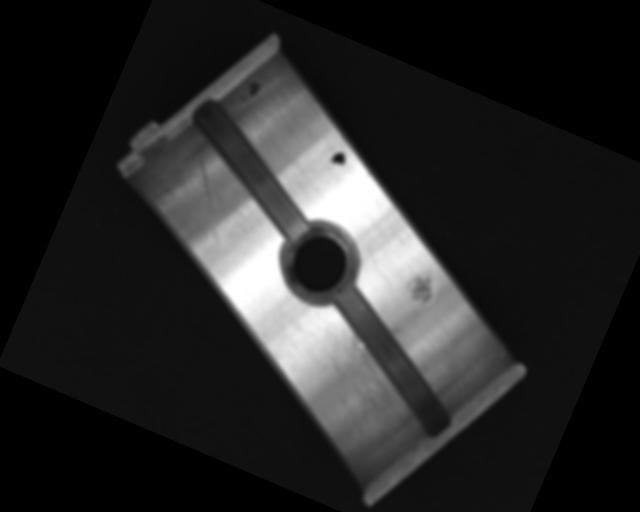blot: (240, 76, 261, 104), (327, 148, 348, 172)
bruise: (405, 264, 442, 307)
gap: (302, 280, 485, 440), (163, 94, 339, 244)
hole: (270, 210, 369, 313)
nick: (170, 153, 248, 245)
scratch: (296, 310, 437, 449)
